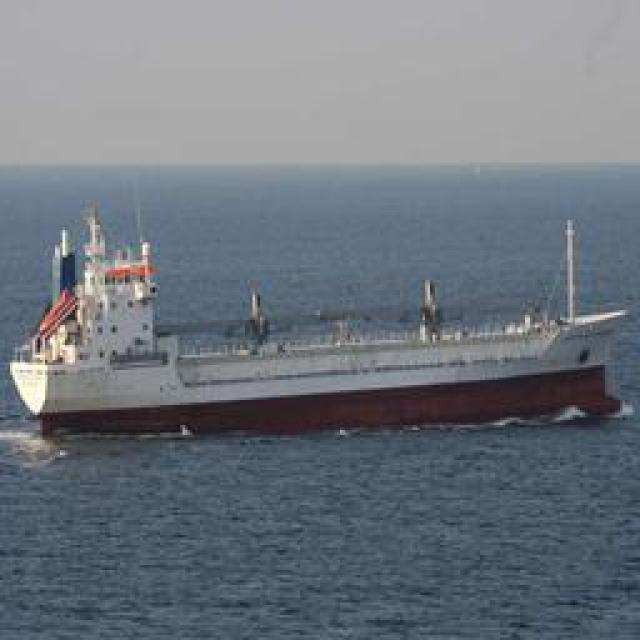Ship: (2, 201, 630, 441)
